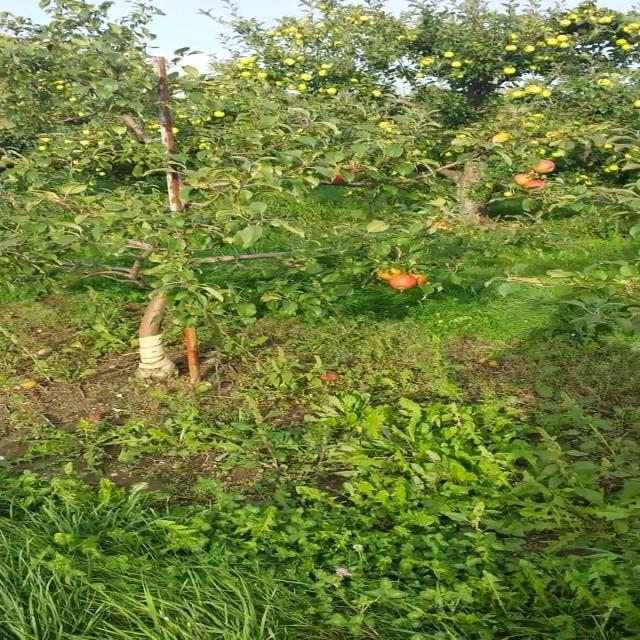apple: (389, 274, 418, 290), (531, 159, 556, 174), (376, 268, 402, 281), (431, 220, 453, 231), (524, 179, 547, 189), (513, 174, 533, 185), (412, 274, 429, 284), (331, 172, 347, 182), (342, 166, 362, 174)
